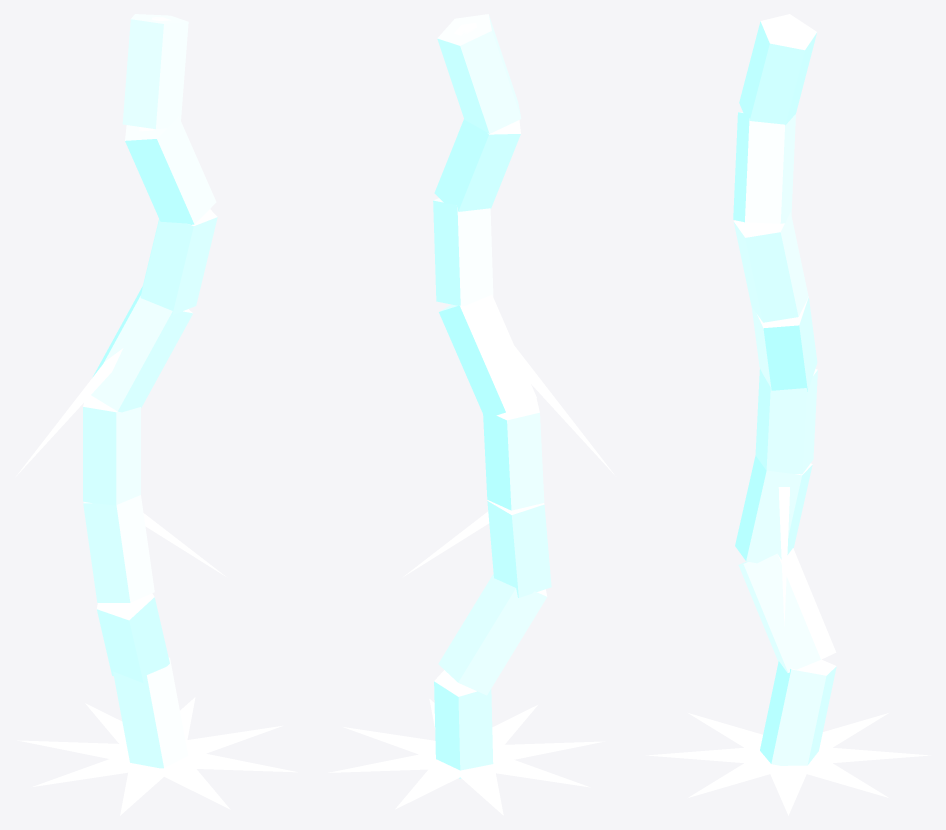
The model's file is bolt.glb.
The picture shows the model from 3 angles, left to right: view 1: azimuth 30°, elevation 25°; view 2: azimuth 150°, elevation 25°; view 3: azimuth 270°, elevation 25°; orthographic projection.
Parts seen in each view (by area): view 1: bolt_mesh; view 2: bolt_mesh; view 3: bolt_mesh.
Part boxes in pixels (left/top/right/bottom): bolt_mesh: left=16, top=14, right=297, bottom=815; bolt_mesh: left=328, top=14, right=614, bottom=815; bolt_mesh: left=646, top=14, right=930, bottom=815.
Size of the model in its own units: 1.63 by 4.28 by 1.5.
